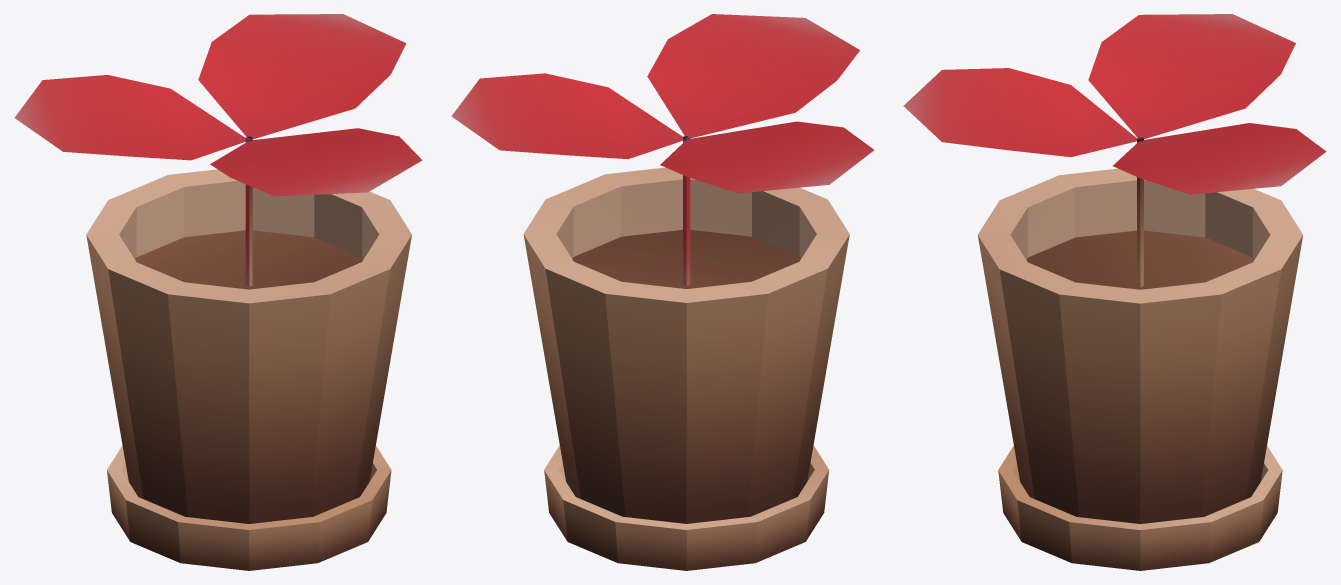
Rendered from SM_plant_clover.fbx.
3 renders of one model, left to right at view 1: azimuth 30°, elevation 25°; view 2: azimuth 150°, elevation 25°; view 3: azimuth 270°, elevation 25°, orthographic.
Visible parts, largest first — view 1: pot, cloverLeaves, plate, stem; view 2: pot, cloverLeaves, plate, stem; view 3: pot, cloverLeaves, plate, stem.
Part boxes in pixels (<box>): pot: <box>86,169,411,523</box>; cloverLeaves: <box>14,14,422,196</box>; plate: <box>107,445,391,570</box>; stem: <box>245,136,252,286</box>; pot: <box>523,167,849,523</box>; cloverLeaves: <box>451,14,873,193</box>; plate: <box>544,445,829,570</box>; stem: <box>683,136,690,285</box>; pot: <box>977,168,1302,523</box>; cloverLeaves: <box>903,14,1326,194</box>; plate: <box>998,445,1282,570</box>; stem: <box>1137,137,1143,286</box>.
Bounding box in the file's own units: 145 × 152 × 143.
